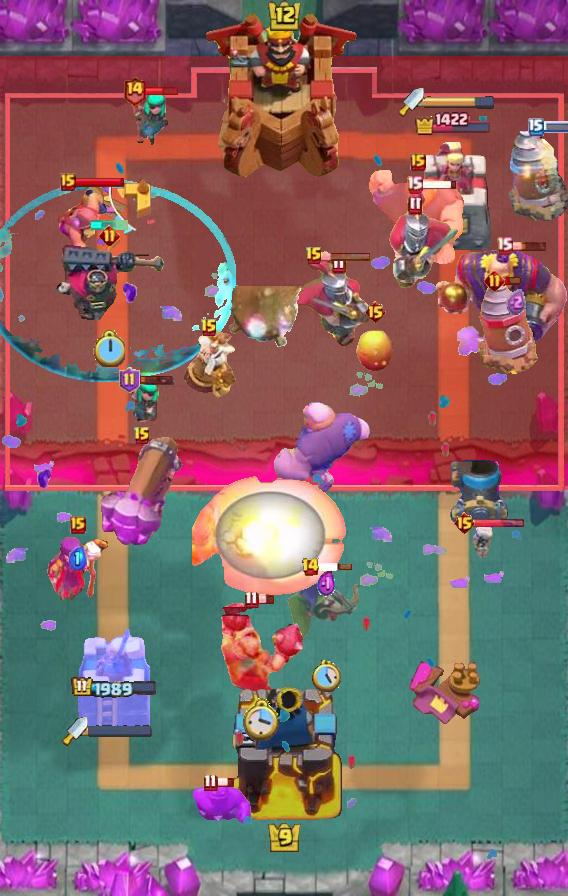axe: (46, 534, 110, 600)
balloon: (271, 400, 373, 500), (369, 167, 467, 269)
bar: (412, 140, 494, 256), (75, 623, 153, 731)
barbarian-hut: (285, 563, 367, 647)
electro-spirit: (317, 570, 336, 599), (506, 289, 526, 315), (69, 546, 87, 570)
elixir: (243, 695, 282, 740), (93, 329, 125, 367), (312, 660, 341, 692)
elixir-collector: (180, 329, 238, 399)
emote: (73, 176, 125, 188), (320, 250, 372, 261), (473, 518, 525, 529), (512, 240, 549, 252), (138, 374, 175, 386), (144, 85, 179, 97), (422, 178, 459, 189), (317, 562, 353, 572), (542, 121, 568, 133), (502, 274, 522, 286), (215, 776, 235, 788), (256, 595, 276, 606)
fireball: (52, 187, 112, 275)
furnace: (97, 435, 187, 549)
heal-spirit: (468, 526, 494, 560)
hog: (355, 329, 395, 373)
ice-spirit: (89, 220, 129, 230)
inferno-tower: (51, 240, 167, 326)
king-tower: (205, 11, 363, 181), (223, 680, 345, 826)
king-tower-bar: (424, 95, 496, 109), (88, 725, 152, 737)
lightning: (432, 247, 568, 345)
magic-archer: (478, 281, 538, 375), (508, 130, 568, 222)
musketeer: (450, 460, 510, 524)
pad_0: (0, 180, 236, 386)
royal-guardian: (218, 599, 306, 703)
selected: (70, 676, 157, 700), (414, 112, 494, 137)
text: (121, 74, 146, 105), (365, 300, 388, 324), (452, 511, 475, 535), (119, 367, 140, 393), (99, 225, 121, 247), (483, 269, 504, 291), (301, 557, 320, 577), (305, 246, 323, 266), (200, 318, 218, 338), (133, 426, 151, 446), (495, 237, 513, 256), (405, 175, 422, 193), (528, 118, 544, 136), (410, 153, 426, 171), (60, 173, 76, 191), (70, 516, 86, 534), (202, 773, 217, 791), (245, 591, 259, 609)
tornado: (190, 781, 252, 827)
valkyrie: (192, 476, 348, 596)
wall-breaker-evolution: (281, 254, 373, 348), (388, 187, 460, 289)
witch: (126, 94, 172, 148), (122, 379, 162, 429)
x-bow: (225, 287, 307, 350)
